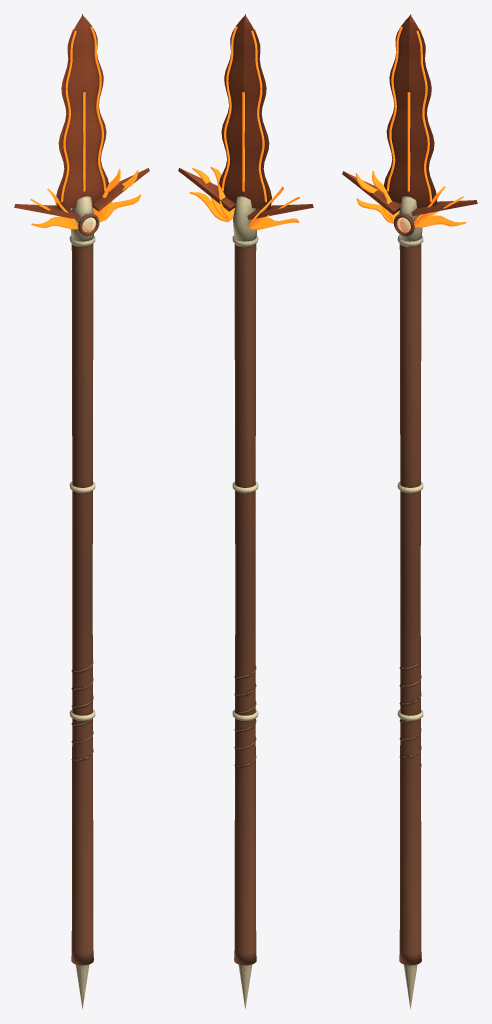
Rendered from arma_lend_lanca_fogo.glb.
The picture shows the model from 3 angles, left to right: view 1: azimuth 30°, elevation 25°; view 2: azimuth 150°, elevation 25°; view 3: azimuth 330°, elevation 25°; orthographic projection.
Parts seen in each view (by area): view 1: arma_lend_lanca_fogo, ponta_gume-1, ponta_gume1; view 2: arma_lend_lanca_fogo, ponta_gume-1b, ponta_gume1b; view 3: arma_lend_lanca_fogo, ponta_gume1, ponta_gume-1, ponta_runa-1, ac_lanca10.
Boxes of the visible parts, bbox=[...] form: arma_lend_lanca_fogo: bbox=[14, 14, 149, 1008]; ponta_gume-1: bbox=[61, 30, 76, 201]; ponta_gume1: bbox=[90, 26, 106, 191]; arma_lend_lanca_fogo: bbox=[178, 14, 313, 1008]; ponta_gume-1b: bbox=[251, 30, 266, 201]; ponta_gume1b: bbox=[221, 26, 237, 191]; arma_lend_lanca_fogo: bbox=[342, 14, 477, 1008]; ponta_gume1: bbox=[416, 30, 432, 201]; ponta_gume-1: bbox=[386, 26, 402, 191]; ponta_runa-1: bbox=[407, 92, 410, 191]; ac_lanca10: bbox=[414, 215, 466, 227].
Size of the model in its own units: 0.3742 by 2.62 by 0.0747.
Materials: 14 (1 with a texture image).
